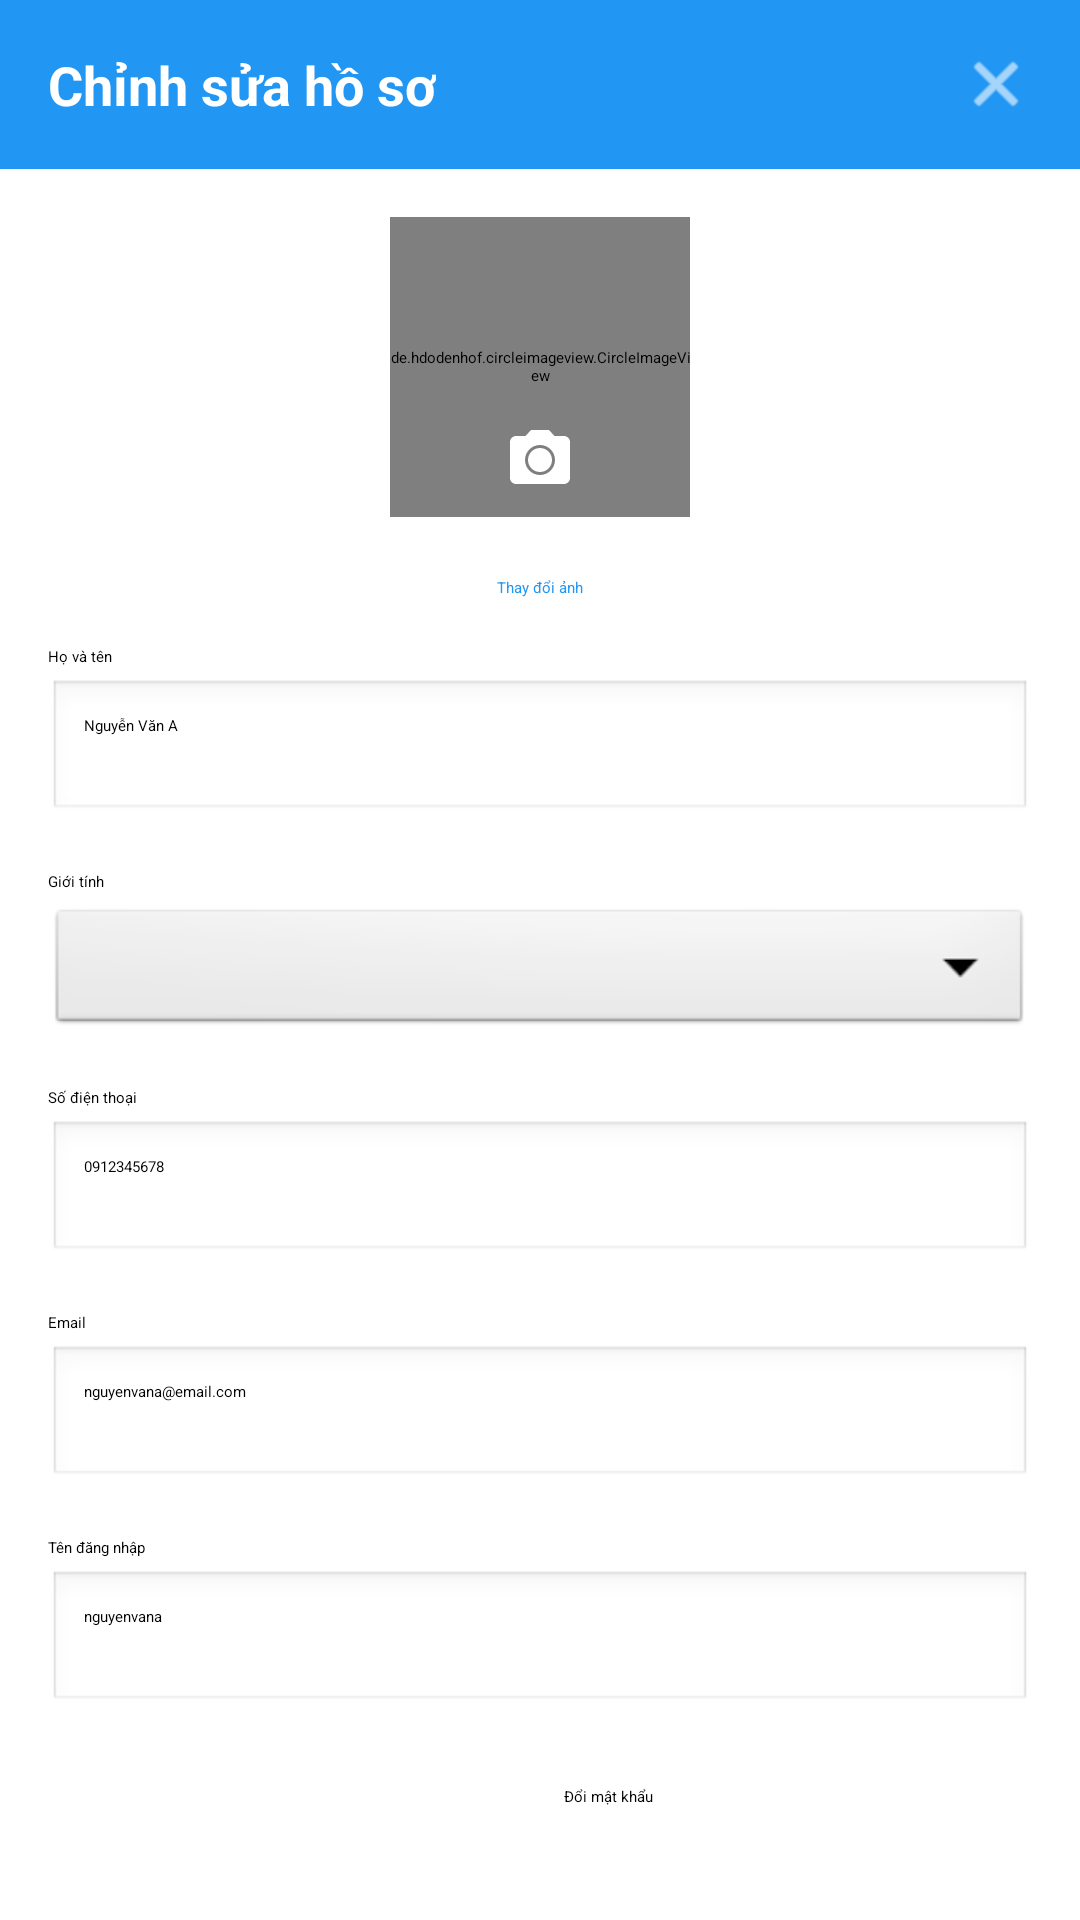

Icons on this 1080px×1920px Android screen, each with the point to tap as point (x, y):
Close: point (996, 84)
custom camera: point (540, 457)
